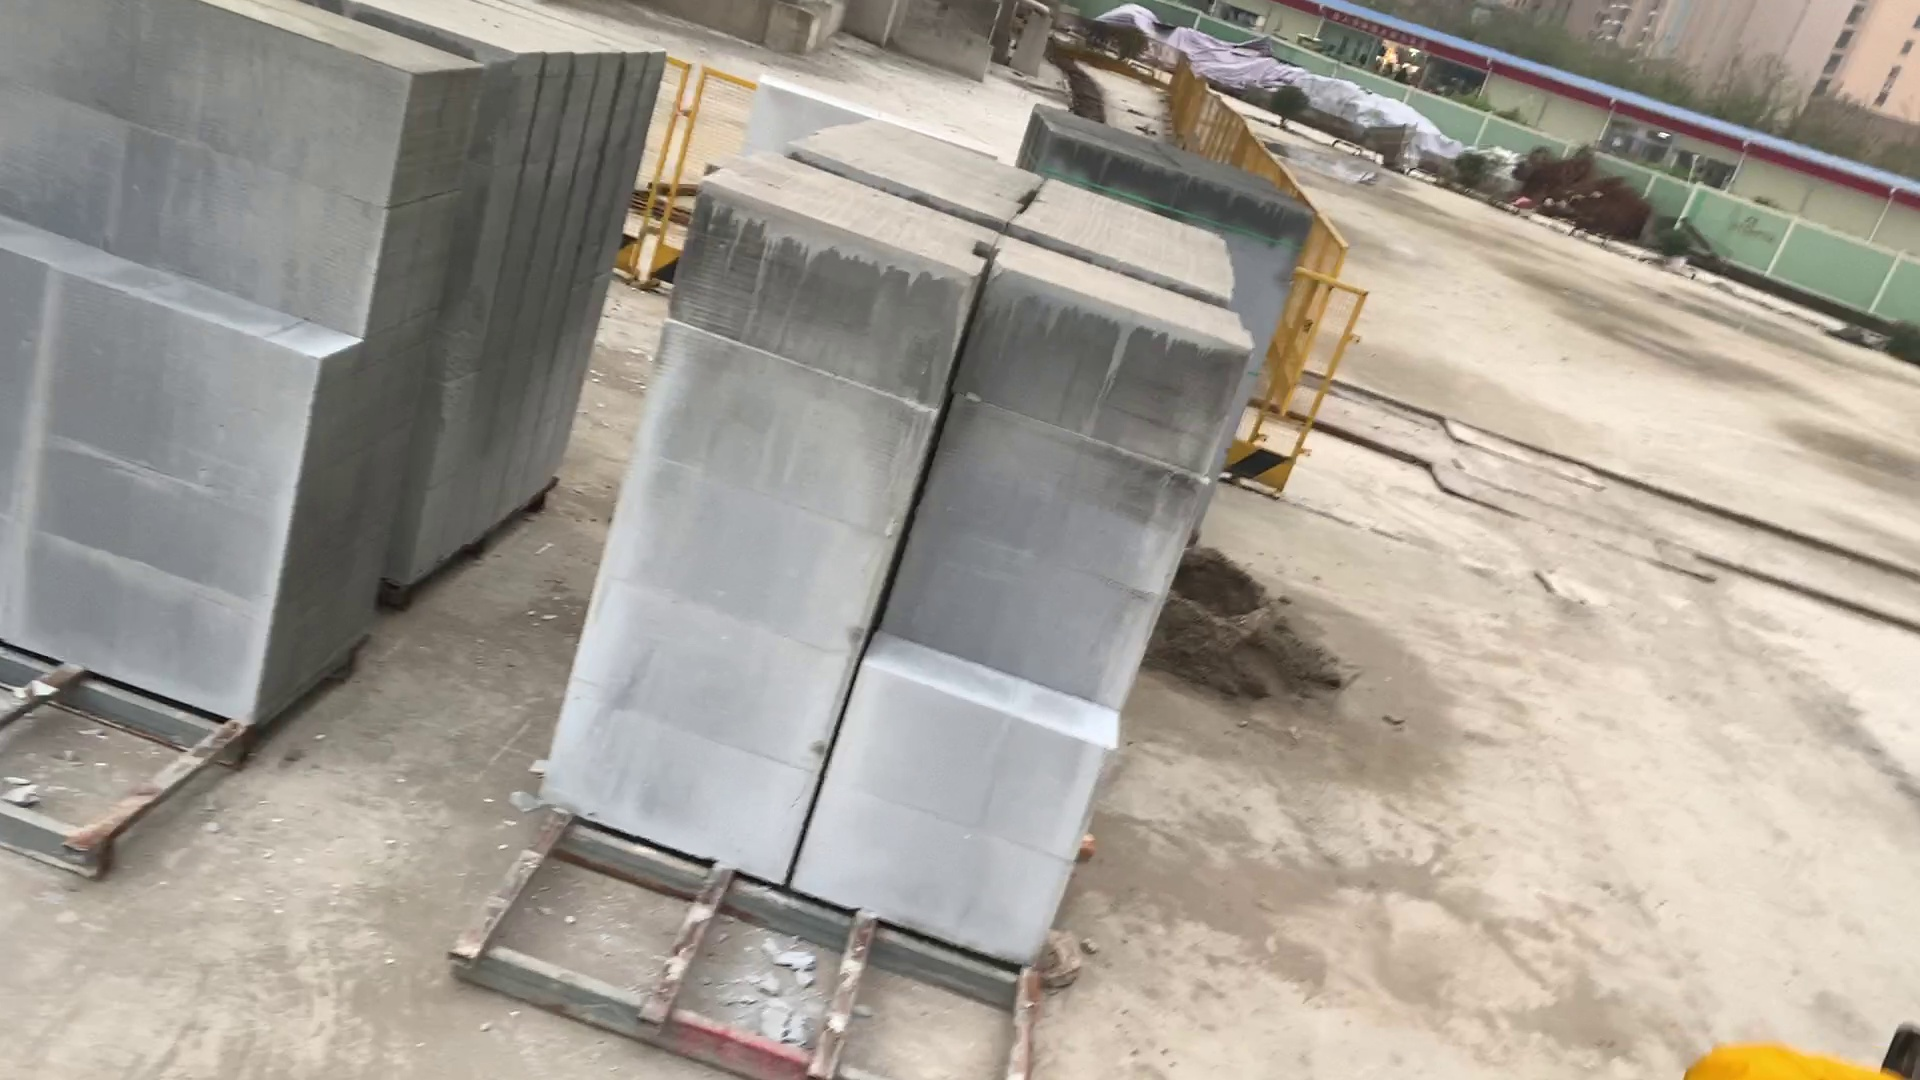brickwork: (524, 129, 1241, 909), (7, 7, 460, 762), (435, 4, 615, 575), (1029, 100, 1316, 229)
